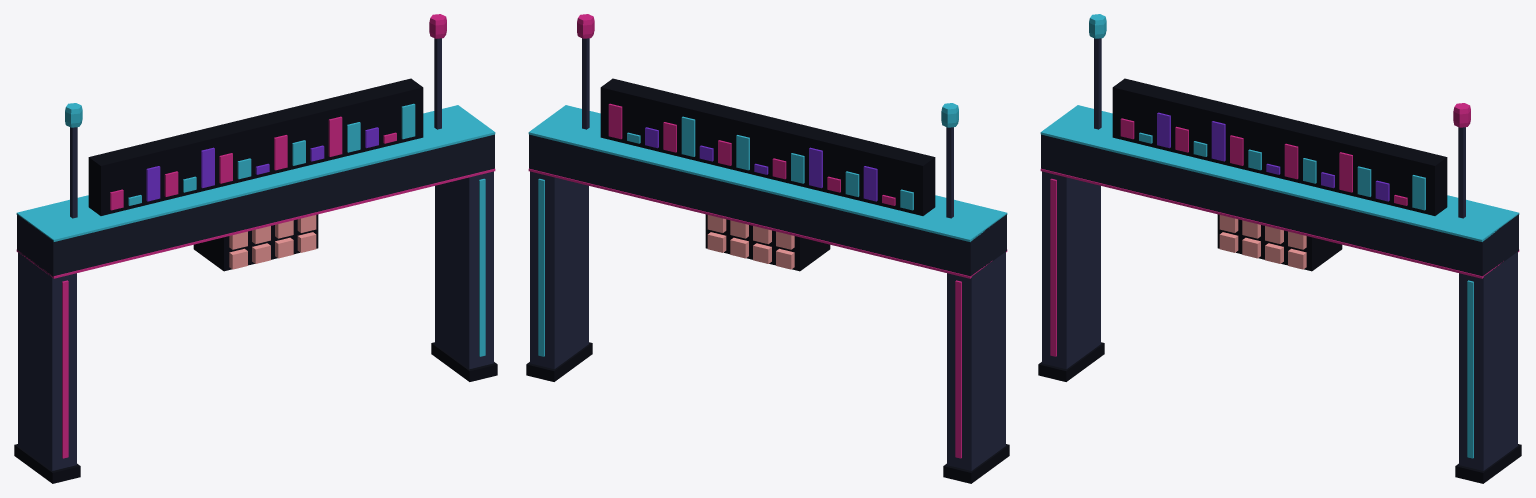
Rendered from gantry.glb.
The picture shows the model from 3 angles, left to right: view 1: azimuth 30°, elevation 25°; view 2: azimuth 150°, elevation 25°; view 3: azimuth 330°, elevation 25°; orthographic projection.
Visible parts, largest first — view 1: nightCity-gantry, lamps; view 2: nightCity-gantry, lamps; view 3: nightCity-gantry, lamps.
Boxes of the visible parts, x1,y1,x2,y2 form: nightCity-gantry: (14, 14, 497, 483); lamps: (229, 215, 316, 269); nightCity-gantry: (526, 14, 1009, 483); lamps: (707, 215, 794, 269); nightCity-gantry: (1038, 14, 1521, 483); lamps: (1219, 215, 1306, 269).
Bounding box in the file's own units: 1.27 × 0.965 × 0.19.
